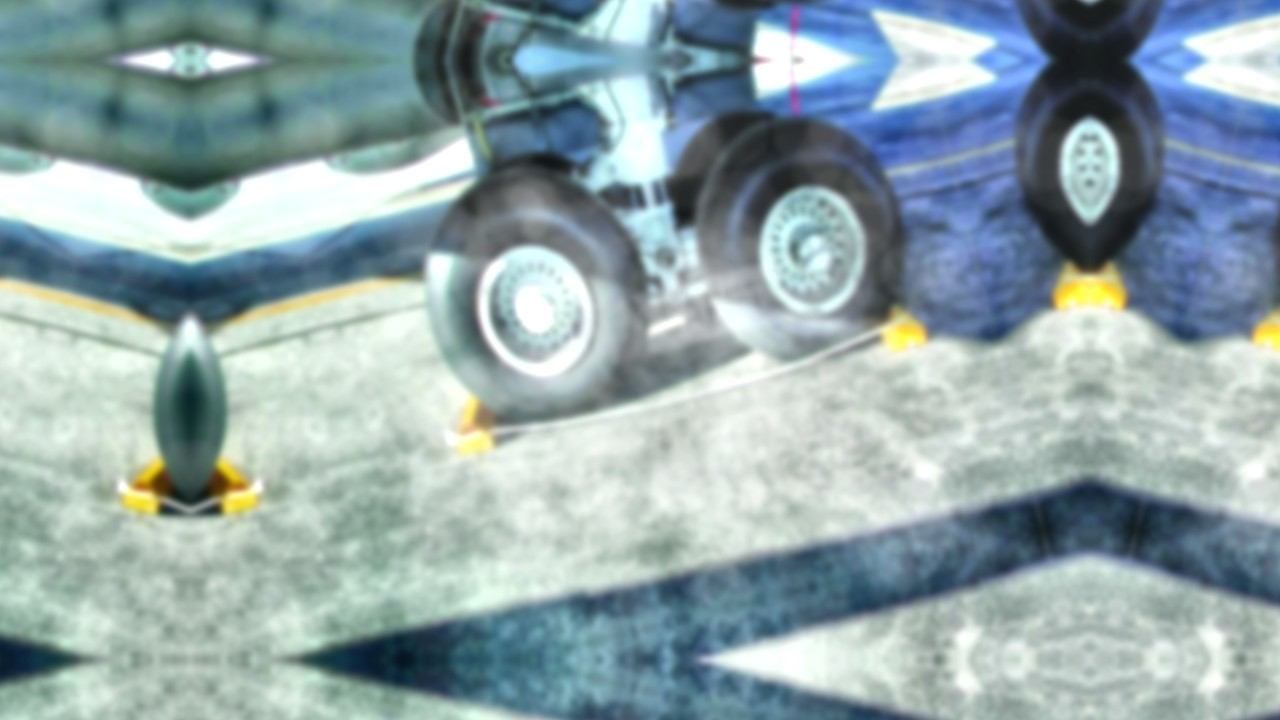chock: (441, 368, 511, 457), (121, 431, 190, 520), (190, 431, 259, 520), (863, 277, 933, 358), (1037, 234, 1090, 315), (1090, 234, 1143, 315), (1247, 277, 1280, 358)
wheel: (396, 138, 669, 441), (667, 92, 927, 376), (992, 60, 1090, 295), (1090, 60, 1188, 295), (652, 99, 802, 231), (1253, 92, 1280, 376), (482, 137, 588, 196), (992, 0, 1090, 60), (1090, 0, 1188, 60), (652, 0, 802, 21)
